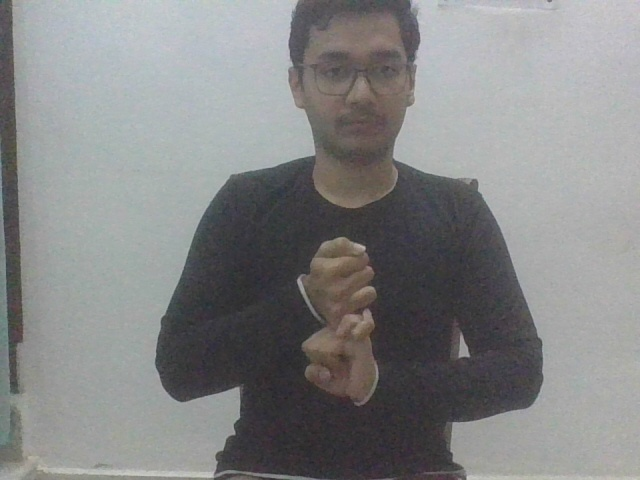S: (298, 234, 380, 402)
